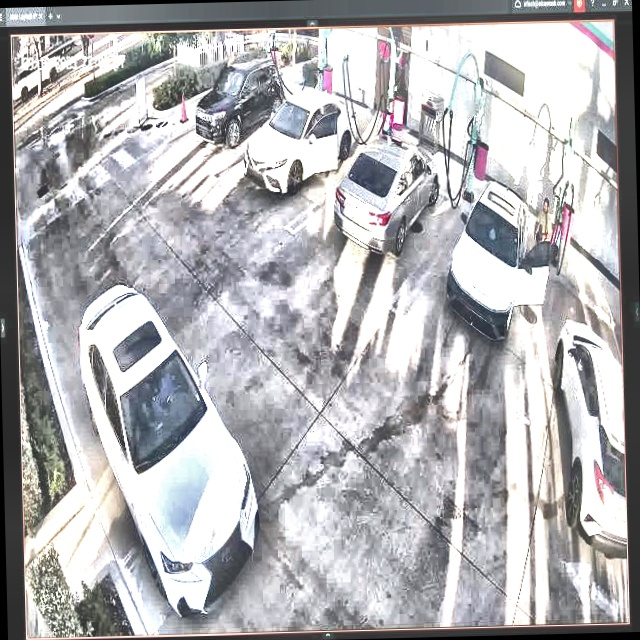Car: (77, 278, 264, 620), (444, 182, 552, 345), (334, 138, 441, 256), (246, 90, 356, 194), (195, 58, 286, 147)
